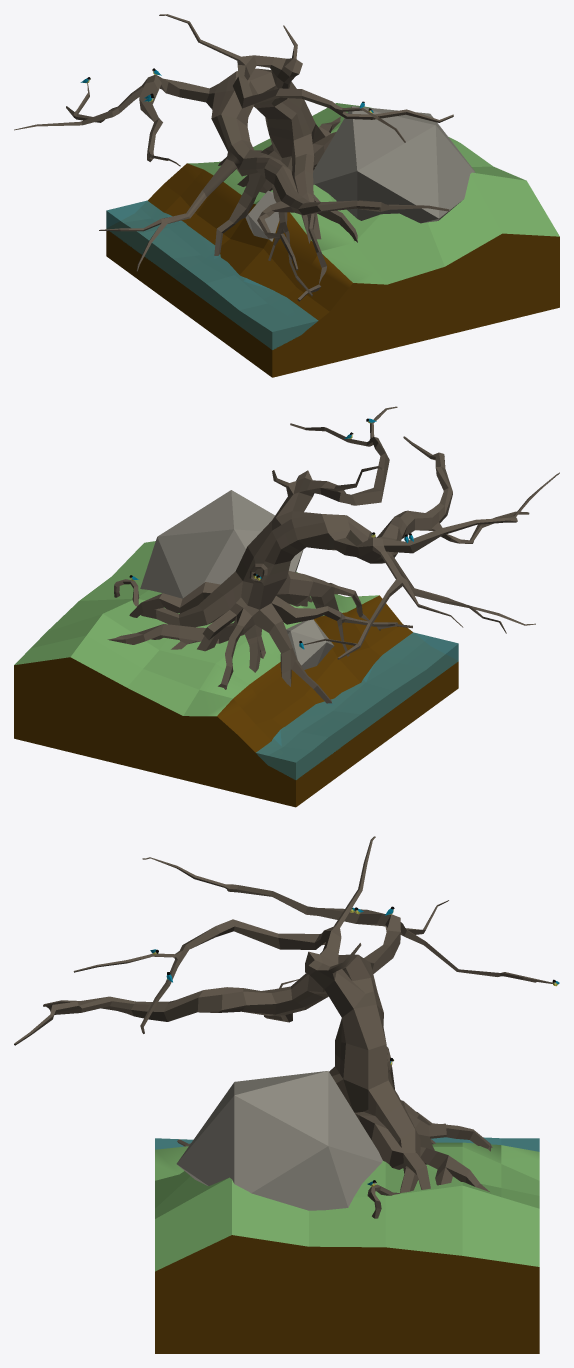
The model's file is tree.fbx.
3 views of the same model, one above another, from view 1: azimuth 30°, elevation 25°; view 2: azimuth 150°, elevation 25°; view 3: azimuth 270°, elevation 25° (orthographic). The views are drawn at different scales.
Visible parts, largest first — view 1: ground, tree5, rock1, water1, rock2; view 2: ground, tree5, water1, rock1, rock2; view 3: ground, tree5, rock1, water1.
Boxes of the visible parts, box(x1,y1,x2,y2) form: ground: box(106, 103, 559, 377); tree5: box(14, 14, 453, 301); rock1: box(313, 106, 475, 223); water1: box(106, 200, 318, 349); rock2: box(245, 190, 279, 241); ground: box(14, 541, 458, 807); tree5: box(107, 406, 559, 703); water1: box(256, 632, 458, 779); rock1: box(140, 490, 303, 598); rock2: box(286, 619, 334, 669); ground: box(155, 1142, 539, 1353); tree5: box(14, 836, 552, 1218); rock1: box(176, 1071, 382, 1210); water1: box(155, 1137, 539, 1151).
Bounding box in the file's own units: 17.7 × 12.03 × 17.24.
